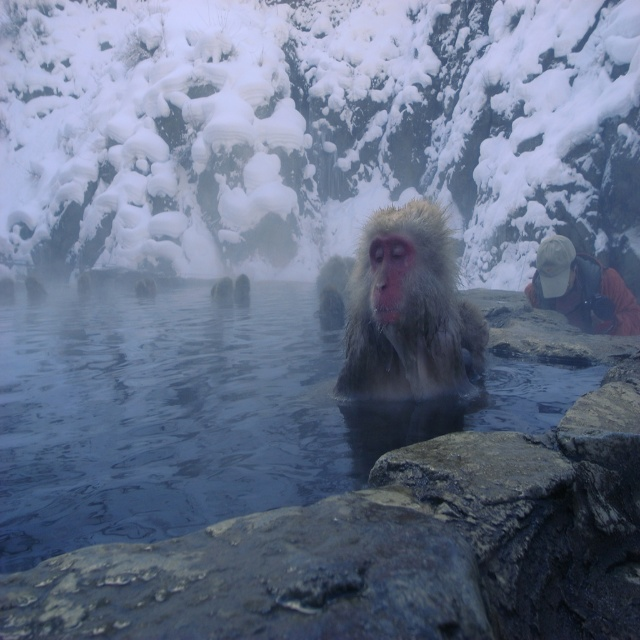Monkey: (340, 196, 485, 397)
